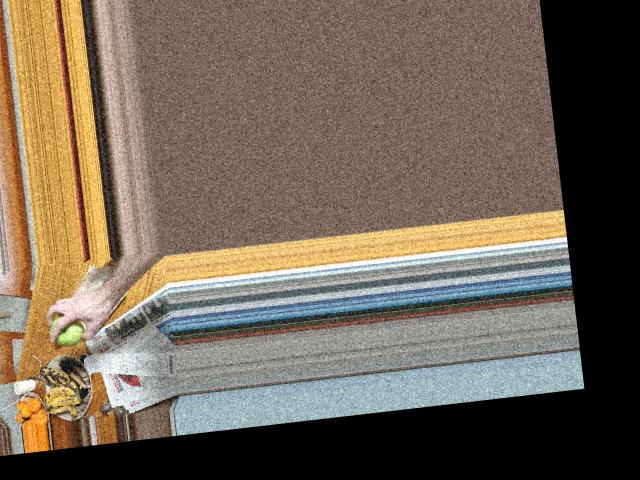apple: (47, 314, 87, 347)
